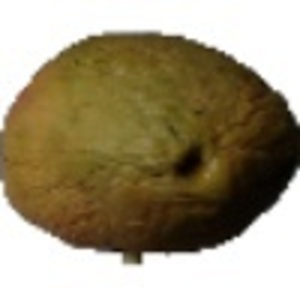mamão: (1, 25, 292, 251)
